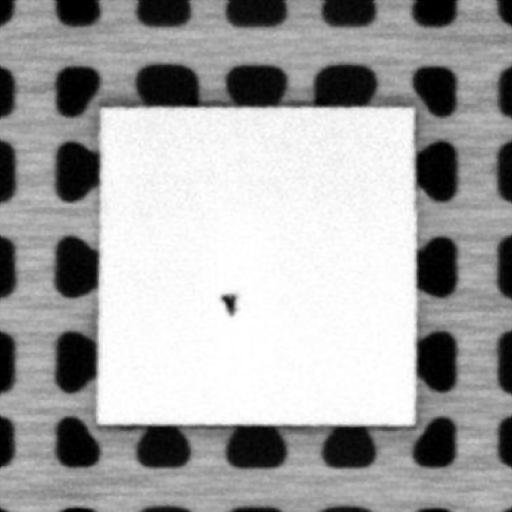DIE_INK: (217, 290, 237, 315)
